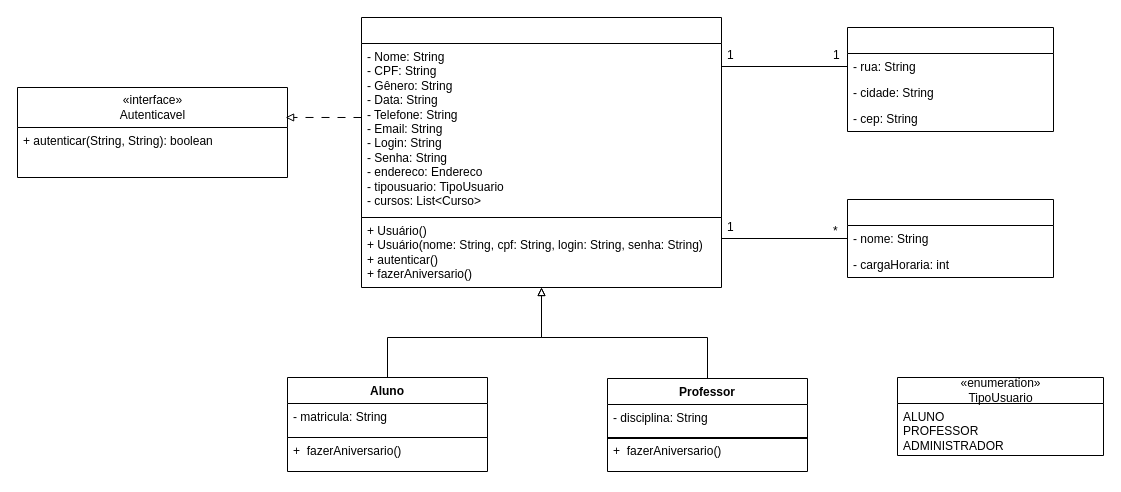
The diagram is 1121 pixels wide and 492 high, and some of its shapes have lost their labels. The shapes that lost their labels are listed below. From the top down, each one's box as (x1, y1, x2, y2) in pixels, then its label:
(846, 26, 1054, 132): Endereco
(360, 16, 722, 218): Usuário
(846, 198, 1054, 278): Curso
